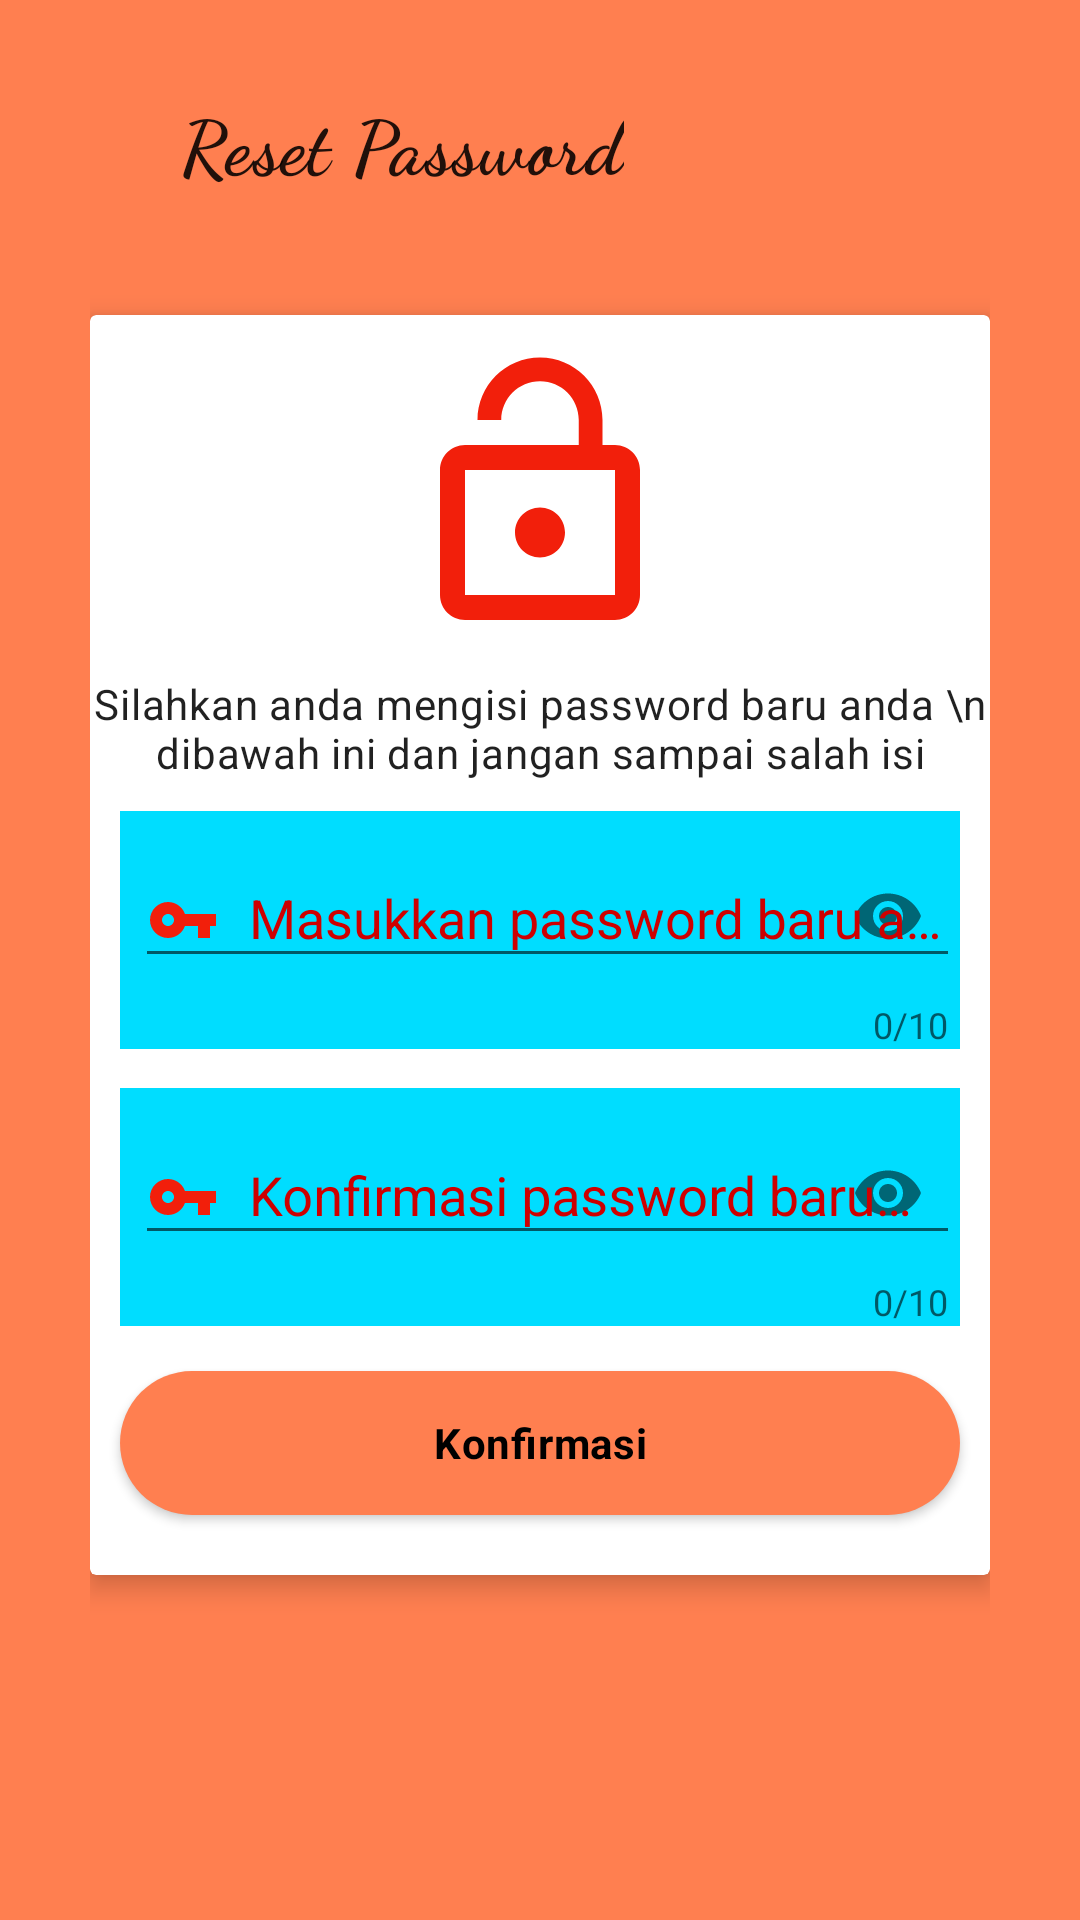

Point at icon controls on the screen. Image size 1080*1920, points as (x=x, y=y).
lock open: (x=540, y=488)
